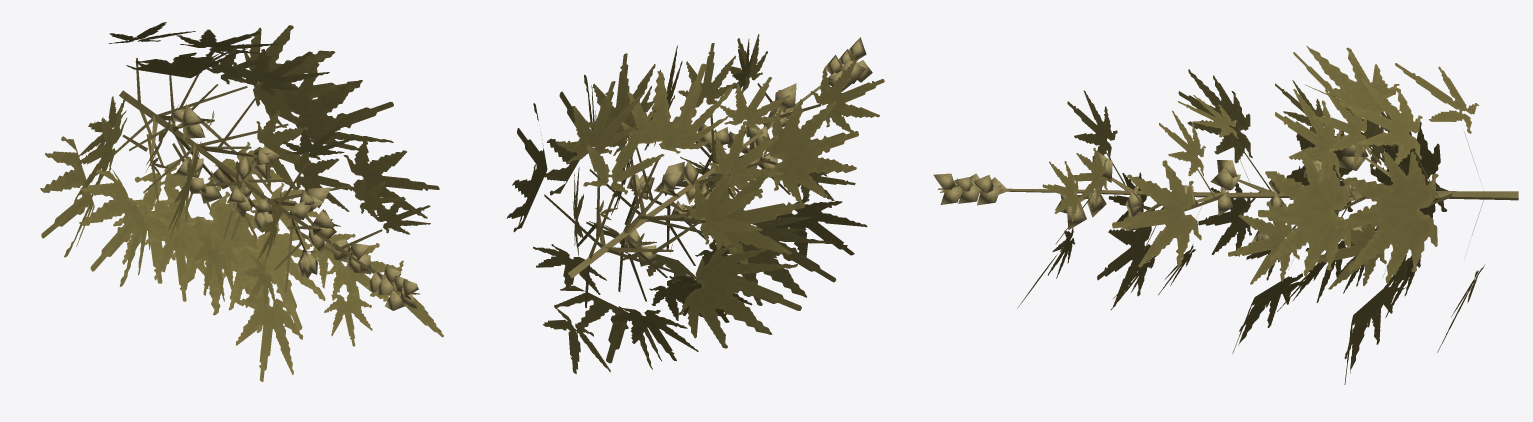
The model's file is p_male_landrace_flowering_c2_cards.obj.
The picture shows the model from 3 angles, left to right: view 1: azimuth 30°, elevation 25°; view 2: azimuth 150°, elevation 25°; view 3: azimuth 270°, elevation 25°; orthographic projection.
Bounding box in the file's own units: 1.64 × 1.45 × 2.28.
1 material, 1 textured.
